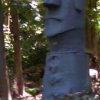Statue: (35, 2, 96, 94)
